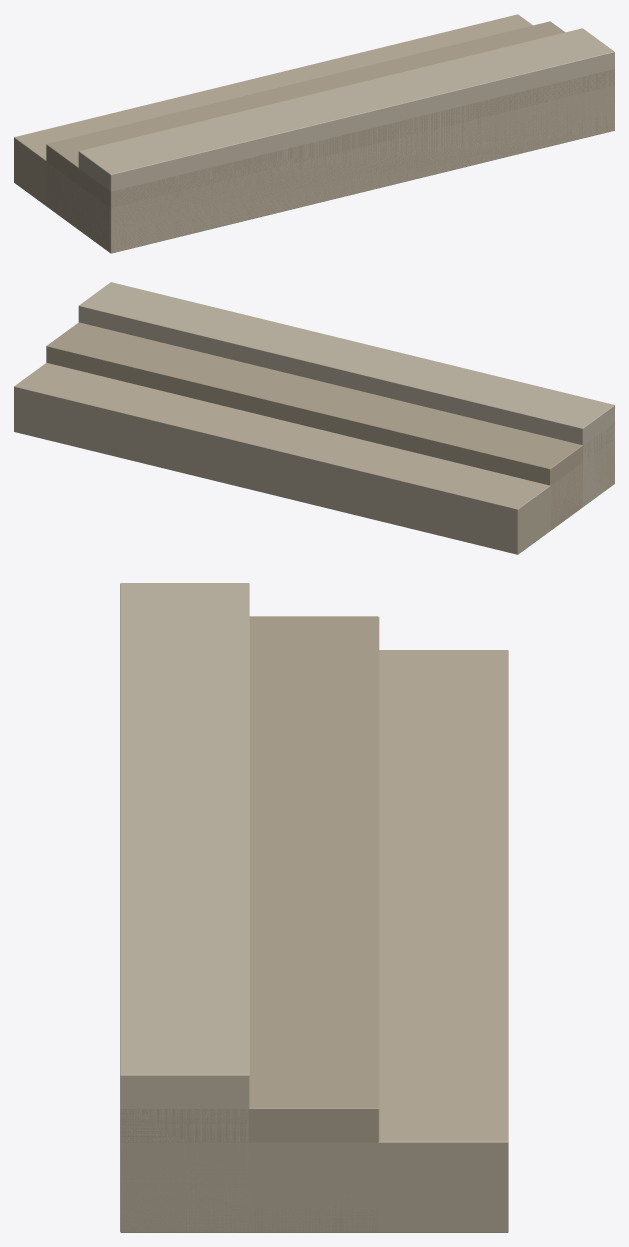
The model's file is steps.glb.
The picture shows the model from 3 angles, top to bottom: view 1: azimuth 30°, elevation 25°; view 2: azimuth 150°, elevation 25°; view 3: azimuth 270°, elevation 25°; orthographic projection. The views are drawn at different scales.
Visible parts, largest first — view 1: body; view 2: body; view 3: body.
Boxes of the visible parts, <box> form: body: <box>14,14,614,253</box>; body: <box>14,282,614,554</box>; body: <box>120,583,508,1232</box>.
Bounding box in the file's own units: 3 × 0.45 × 1.
